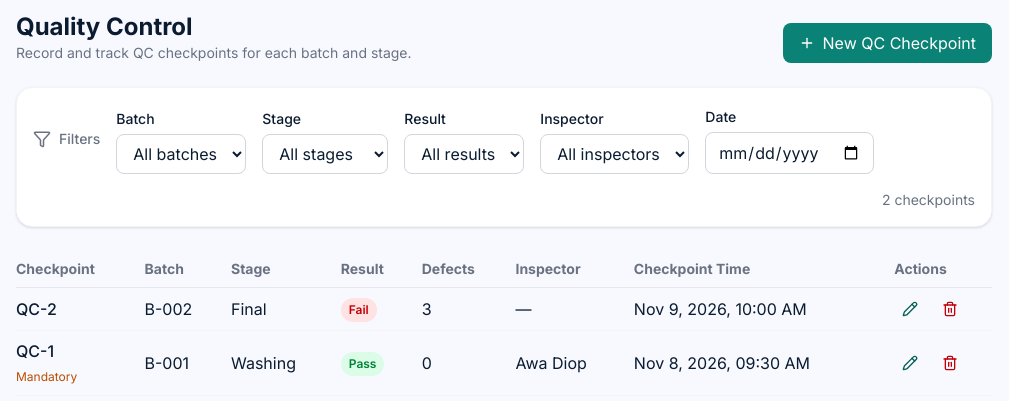
Scenario: QcCheckpointList › filters by checkpoint date
Expected: the text "QC-1" is shown, [16, 341, 54, 361]
Type "2026-11-08" into the date field named "Filter by date".
click(790, 153); type("2026-11-08")  # box [705, 132, 874, 174]
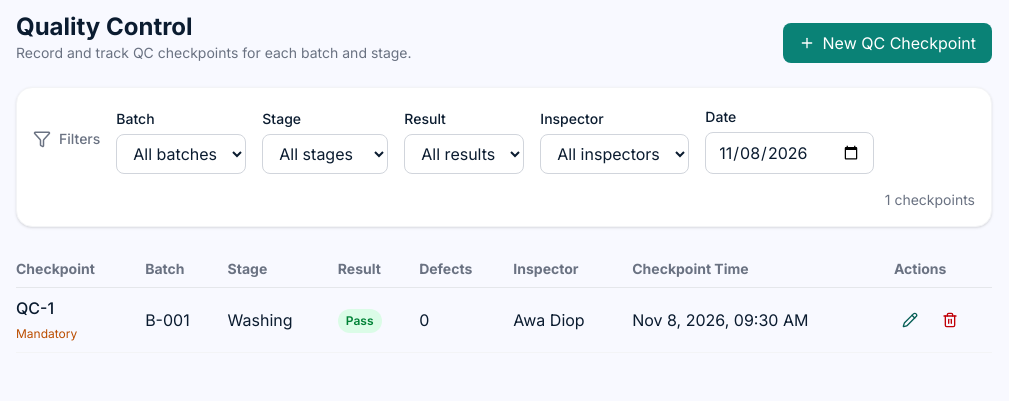
Expected: the text "QC-1" is shown, [16, 298, 54, 318]
Result: the text "QC-2" is gone
